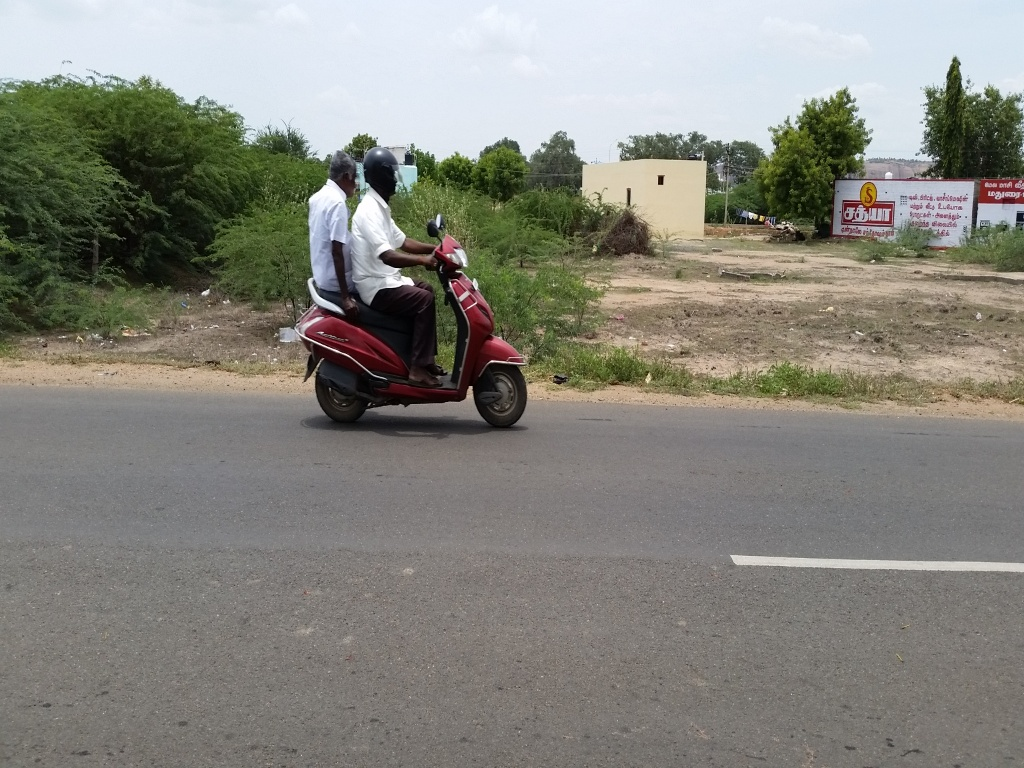biker: (274, 111, 549, 440)
nohelmet: (362, 136, 407, 206), (321, 146, 362, 202)
